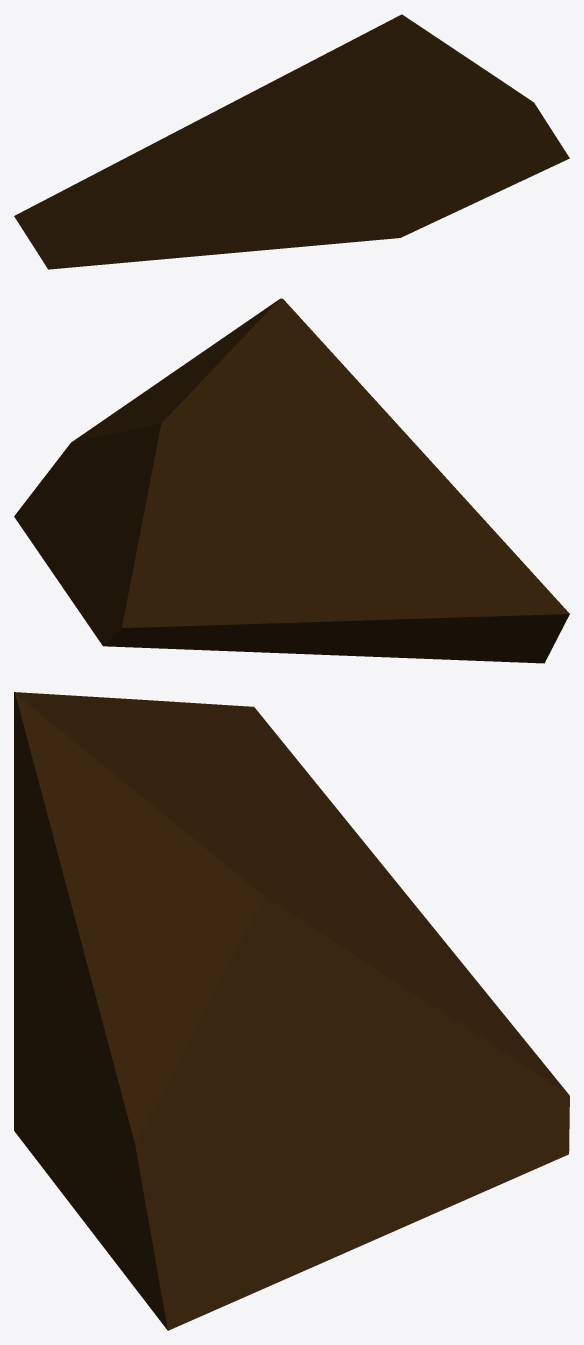
File: Debris10.glb
3 views of the same model, one above another, from view 1: azimuth 30°, elevation 25°; view 2: azimuth 150°, elevation 25°; view 3: azimuth 270°, elevation 25° (orthographic). The views are drawn at different scales.
Parts seen in each view (by area): view 1: Cylinder_cell.013; view 2: Cylinder_cell.013; view 3: Cylinder_cell.013.
Boxes of the visible parts, x1,y1,x2,y2 form: Cylinder_cell.013: [14, 14, 569, 269]; Cylinder_cell.013: [14, 298, 569, 663]; Cylinder_cell.013: [14, 692, 569, 1330].
Size of the model in its own units: 0.9906 by 0.3952 by 0.454.
